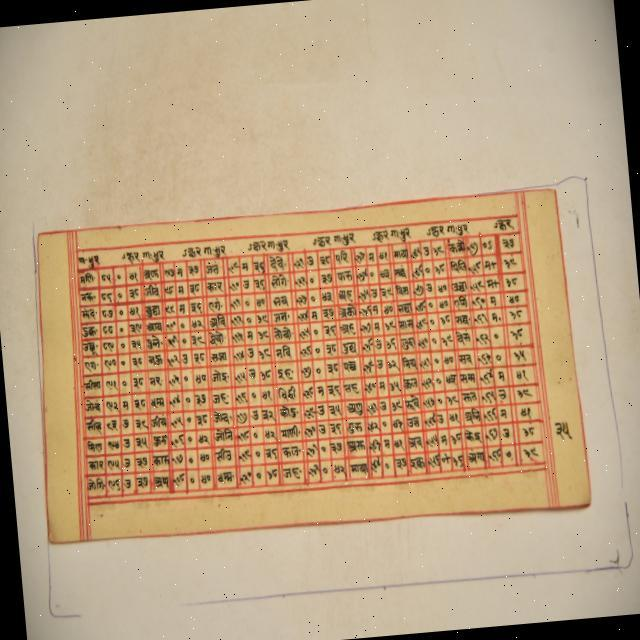text_paragraph: (38, 185, 590, 543)
